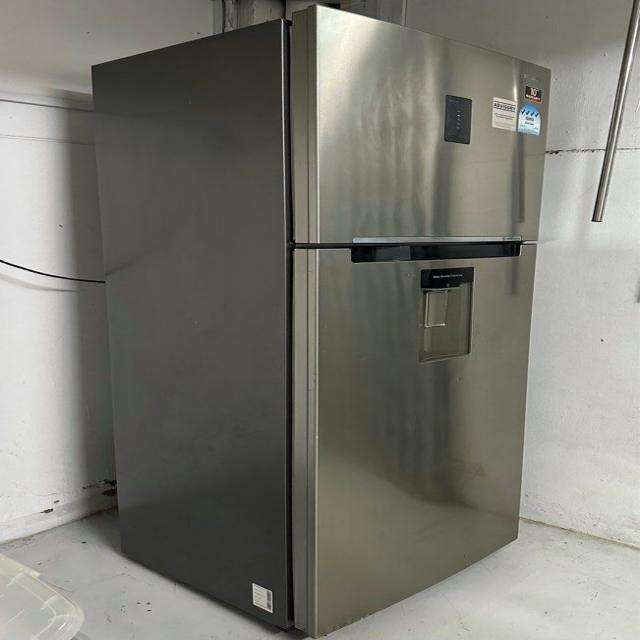refrigerator: (280, 5, 547, 638)
